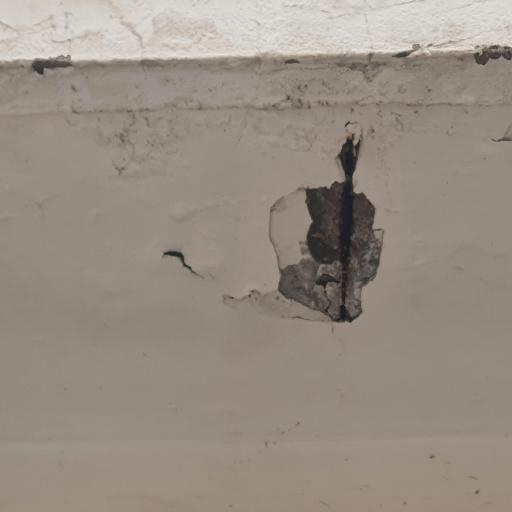exposed_rebar: (338, 137, 360, 322)
spalling: (223, 135, 384, 322)
